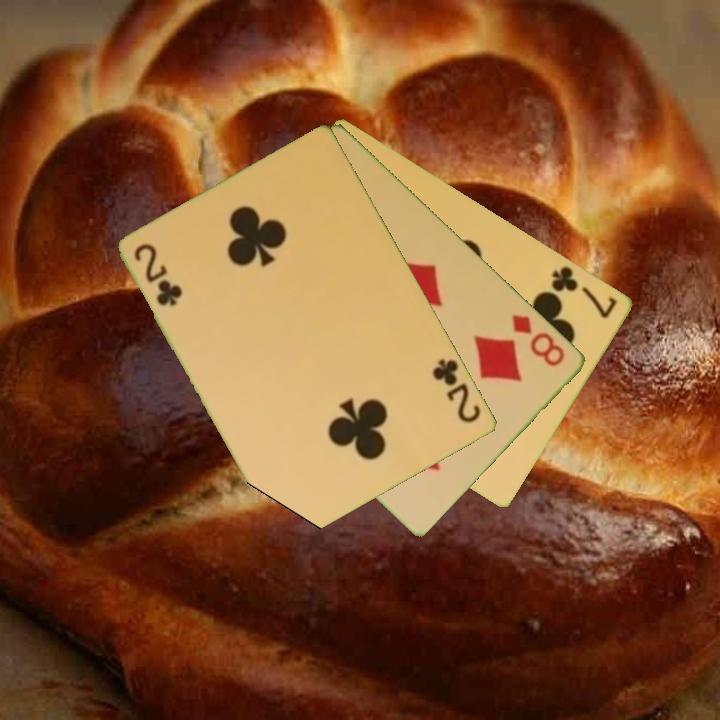2c: (429, 355, 485, 426), (131, 240, 185, 310)
7c: (548, 262, 621, 322)
8d: (509, 310, 569, 370)
